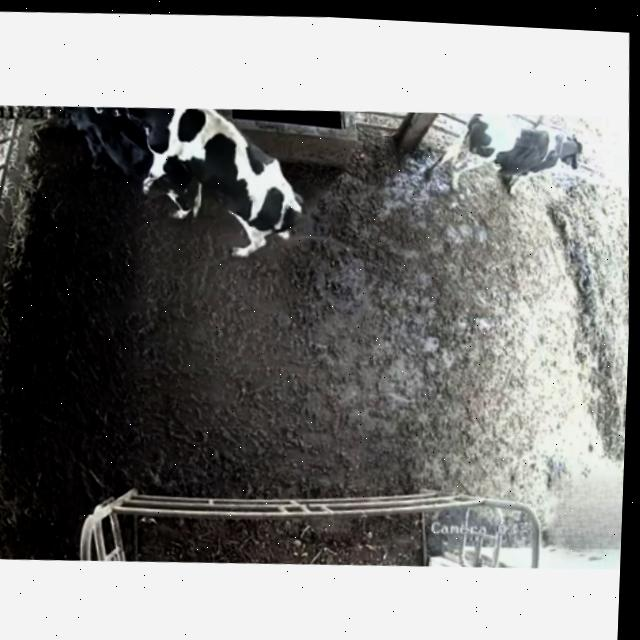ride: (83, 98, 320, 285)
